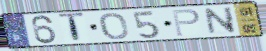5: (131, 9, 163, 39)
6: (30, 14, 57, 45)
N: (202, 5, 238, 36)
O: (98, 12, 131, 41)
P: (170, 8, 202, 38)
T: (57, 12, 86, 44)
